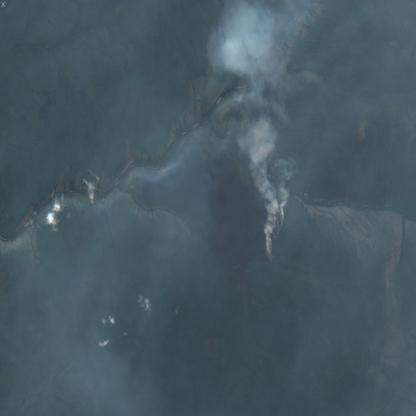fire: (245, 154, 288, 268)
